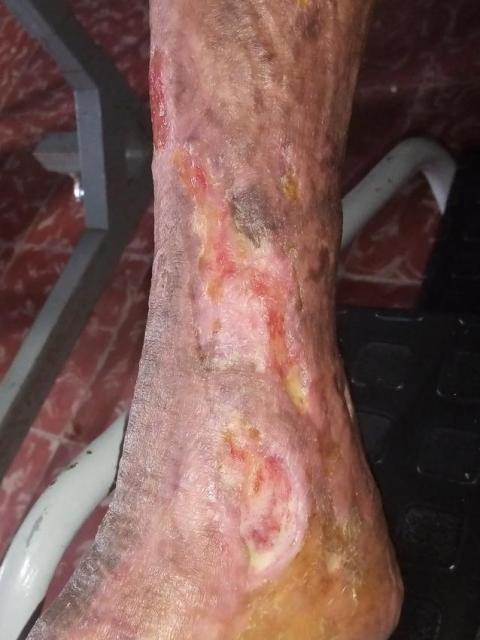wound: (177, 148, 312, 417), (221, 431, 308, 579), (273, 144, 302, 214), (149, 49, 169, 149)
